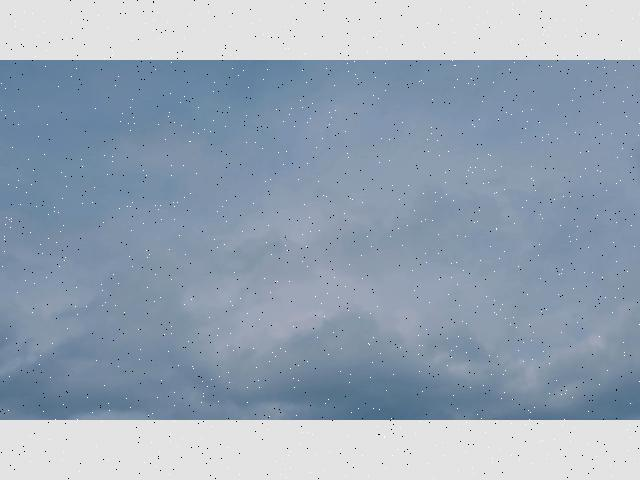Anti-Drone: (282, 232, 290, 242)
